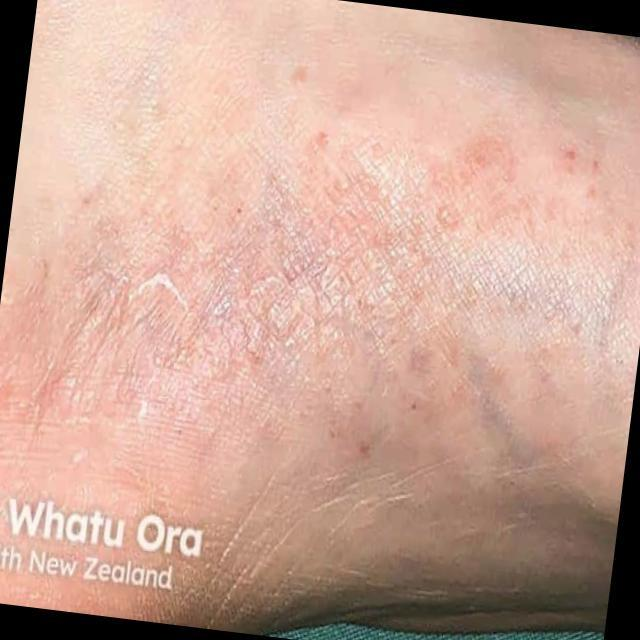Eczema: (38, 75, 579, 513)
